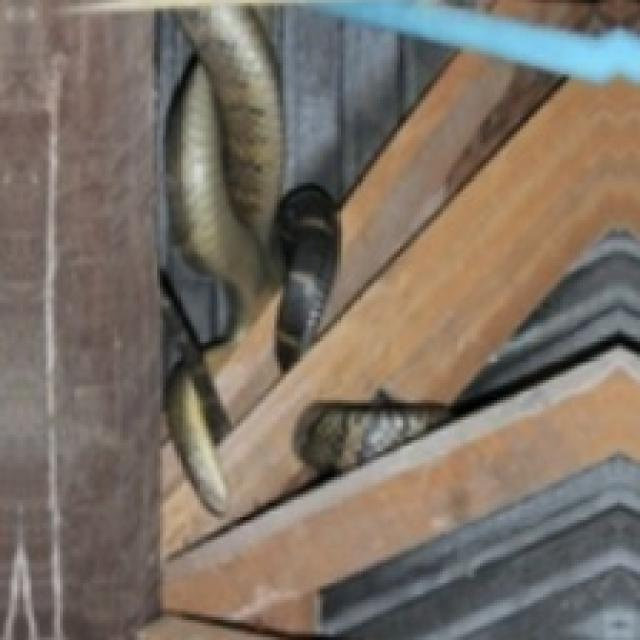king cobra: (163, 6, 334, 511)
